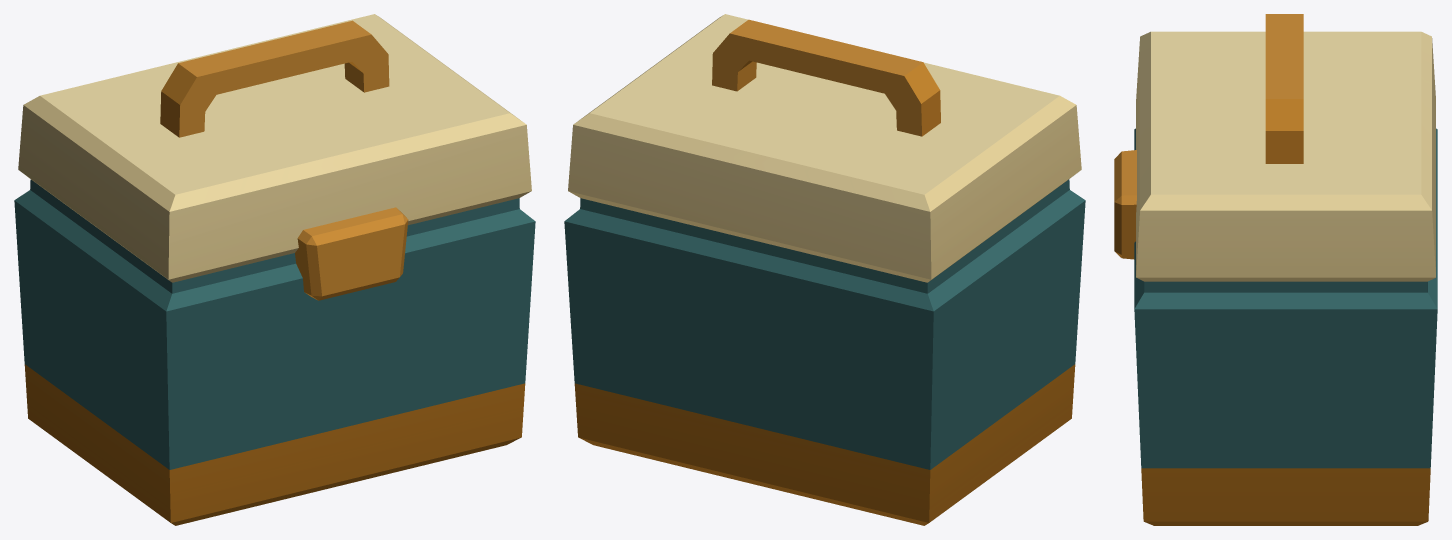
File: SM_CoolerBox.fbx
The picture shows the model from 3 angles, left to right: view 1: azimuth 30°, elevation 25°; view 2: azimuth 150°, elevation 25°; view 3: azimuth 270°, elevation 25°; orthographic projection.
Visible parts, largest first — view 1: SM_CoolerBox; view 2: SM_CoolerBox; view 3: SM_CoolerBox.
Boxes of the visible parts, left/top/right/bottom form: SM_CoolerBox: left=14, top=14, right=535, bottom=525; SM_CoolerBox: left=564, top=14, right=1085, bottom=525; SM_CoolerBox: left=1114, top=14, right=1437, bottom=525.
Size of the model in its own units: 49.13 by 49.46 by 37.31.
